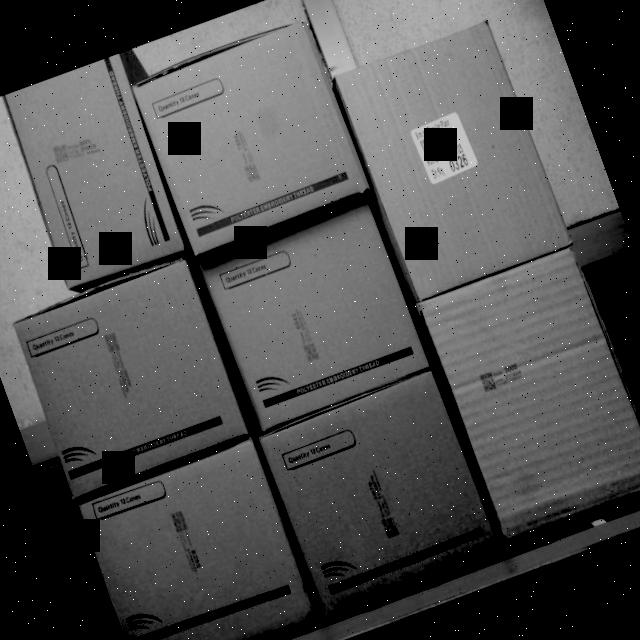box: (330, 13, 572, 297), (417, 239, 640, 539), (132, 16, 374, 258), (256, 369, 496, 606), (196, 196, 430, 430), (16, 262, 247, 486), (77, 437, 315, 640), (1, 52, 191, 292)
